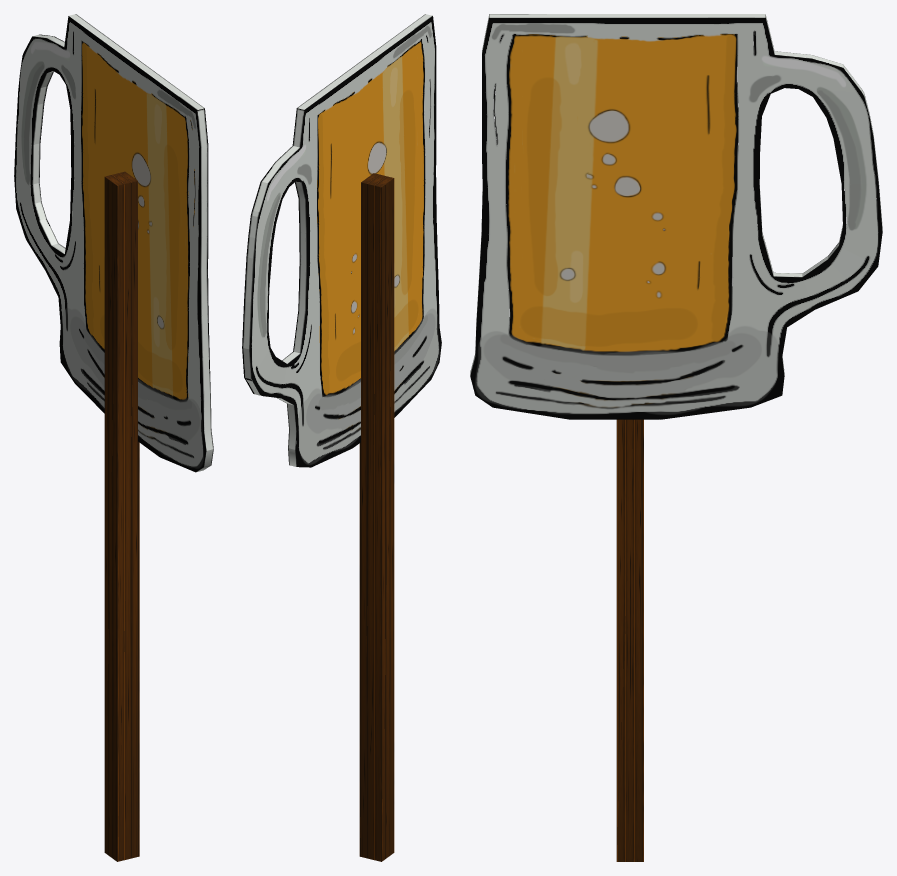
File: Beer_Powerup.fbx
3 renders of one model, left to right at view 1: azimuth 30°, elevation 25°; view 2: azimuth 150°, elevation 25°; view 3: azimuth 270°, elevation 25°, orthographic. The views are drawn at different scales.
Visible parts, largest first — view 1: Board11; view 2: Board11; view 3: Board11.
Part boxes in pixels (x1,y1,x2,y2): Board11: (14,14,213,861); Board11: (242,14,441,861); Board11: (470,14,882,861).
Bounding box in the file's own units: 1.95 × 51.4 × 22.68.
Materials: 2 (2 with a texture image).
